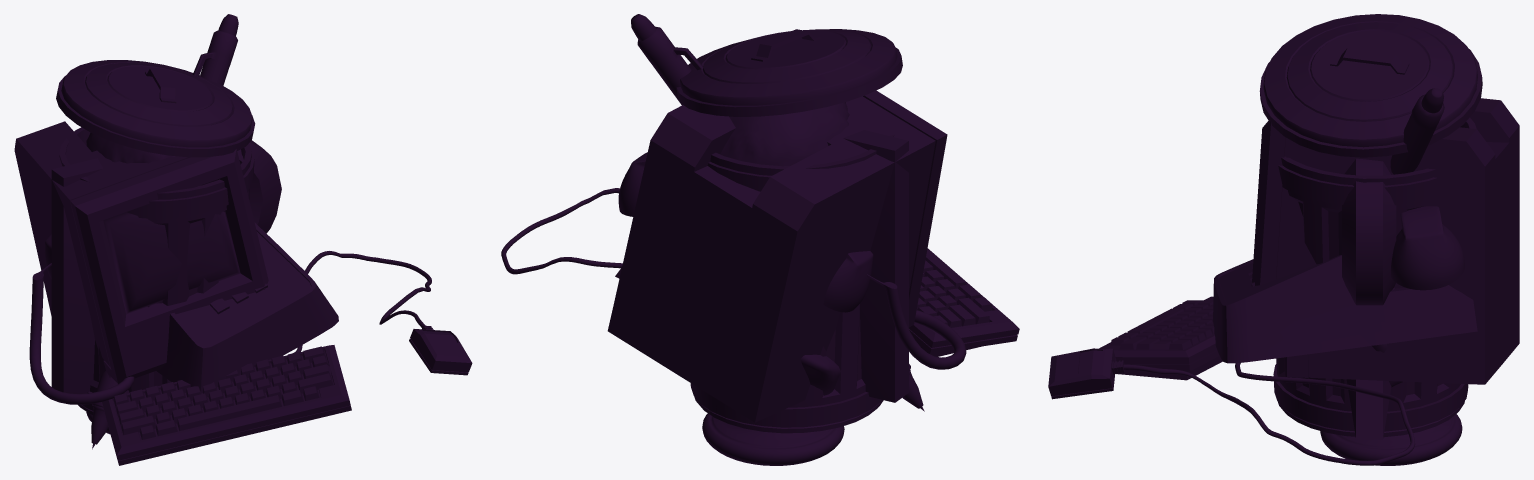
Rendered from symbols.glb.
3 renders of one model, left to right at view 1: azimuth 30°, elevation 25°; view 2: azimuth 150°, elevation 25°; view 3: azimuth 270°, elevation 25°, orthographic. The views are drawn at different scales.
Visible parts, largest first — view 1: computer, trashcan, phone, logo, pen, bust; view 2: computer, trashcan, bust, logo, phone, pen; view 3: computer, trashcan, phone, logo, bust, pen.
Boxes of the visible parts, x1,y1,x2,y2 form: computer: (14,121,472,465); trashcan: (56,60,255,414); phone: (29,222,338,404); logo: (51,140,281,393); pen: (91,14,238,449); bust: (86,132,175,434); computer: (501,90,1019,422); trashcan: (676,29,902,433); bust: (702,102,849,465); logo: (843,130,908,402); phone: (615,152,966,369); pen: (631,14,924,411); computer: (1048,98,1519,465); trashcan: (1259,14,1482,437); phone: (1213,206,1477,363); logo: (1342,158,1396,439); bust: (1320,344,1462,465); pen: (1390,88,1444,174).
Bounding box in the file's own units: 375 × 337 × 356.
